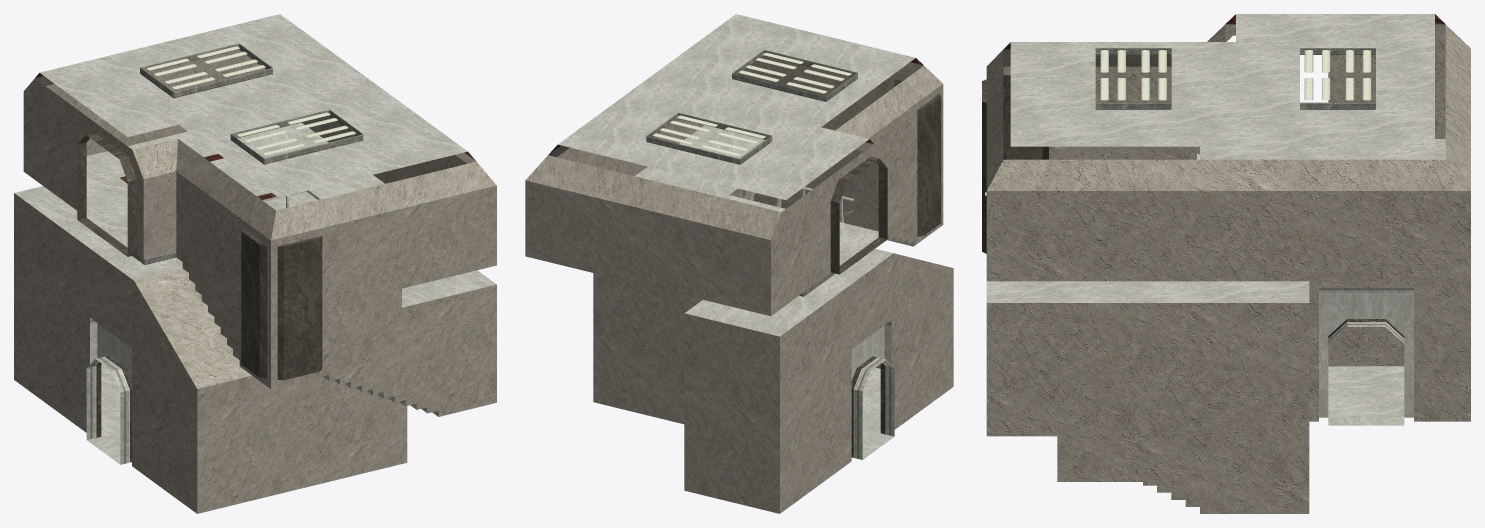
The model's file is ply_all_assoc_hall_civ_s01_r4_stairwella_mesh_stairwella.fbx.
3 views of the same model, side by side, from view 1: azimuth 30°, elevation 25°; view 2: azimuth 150°, elevation 25°; view 3: azimuth 270°, elevation 25° (orthographic). The views are drawn at different scales.
Visible parts, largest first — view 1: mesh_node; view 2: mesh_node; view 3: mesh_node.
Part boxes in pixels (left/top/right/bottom): mesh_node: left=14, top=14, right=496, bottom=513; mesh_node: left=525, top=14, right=953, bottom=513; mesh_node: left=982, top=14, right=1470, bottom=513.
Bounding box in the file's own units: 9.45 × 10.58 × 12.86.
